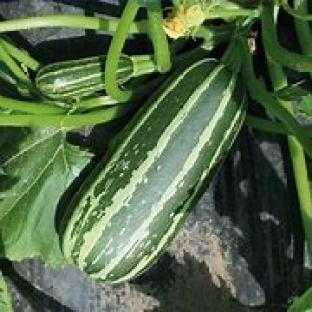Zucchini: (63, 60, 246, 282), (35, 57, 105, 101)
